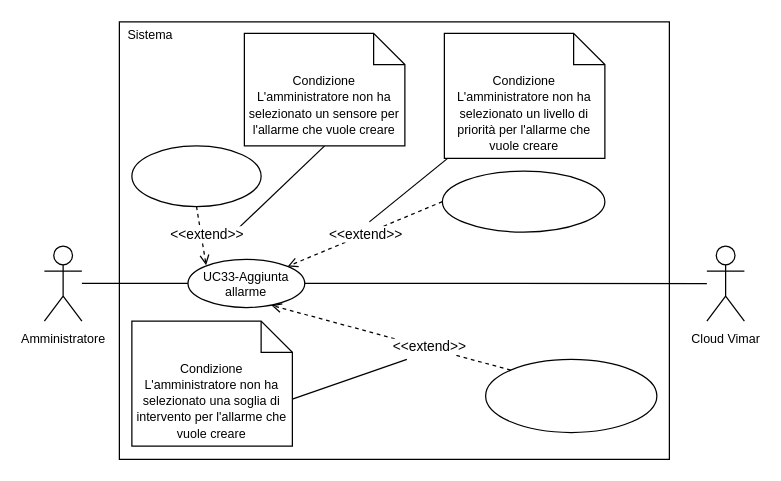
Some shapes in this 781 by 481 pixel diagram are drawn without their labels. Each missing label, with the centre of its shape:
UC46-Errore nessun sensore selezionato: point (196, 175)
UC47-Errore nessun livello di priorità selezionato: point (523, 201)
UC48 -Errore nessuna soglia di intervento selezionata: point (570, 395)
